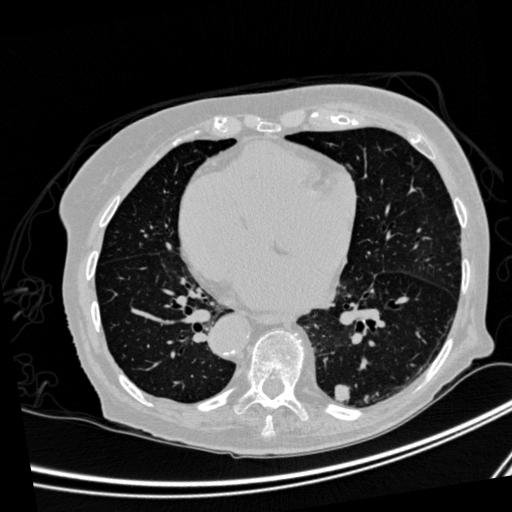nodule: (328, 378, 357, 407)
